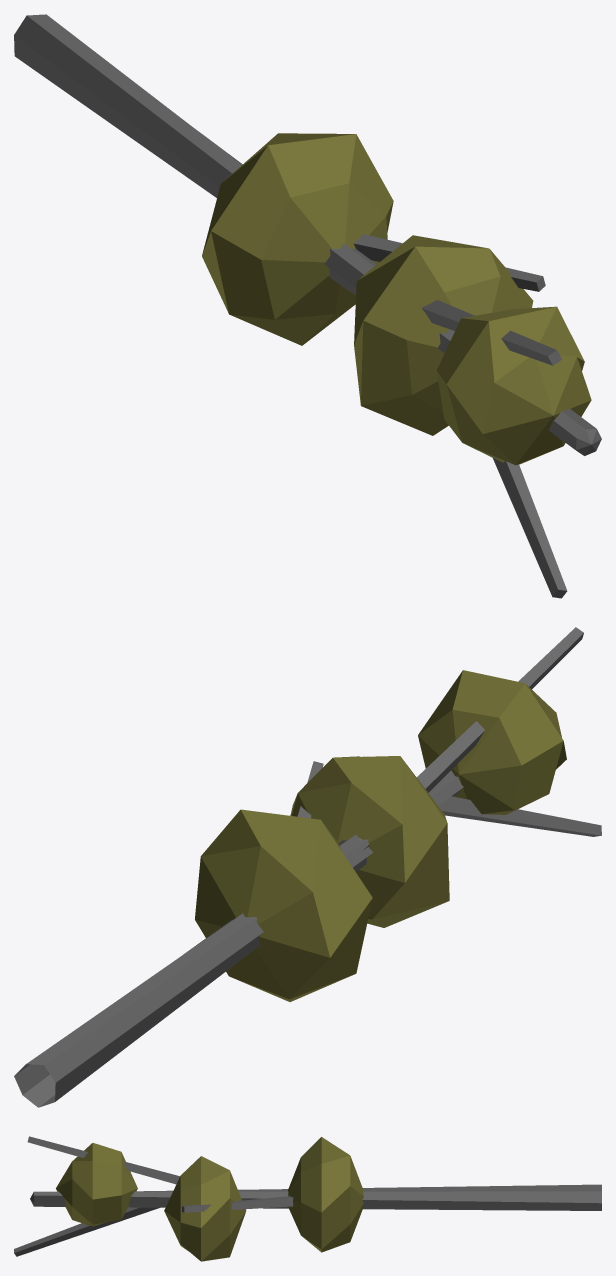
File: dying_1.glb
The picture shows the model from 3 angles, top to bottom: view 1: azimuth 30°, elevation 25°; view 2: azimuth 150°, elevation 25°; view 3: azimuth 270°, elevation 25°; orthographic projection. The views are drawn at different scales.
Parts seen in each view (by area): view 1: tree_05_dying_1; view 2: tree_05_dying_1; view 3: tree_05_dying_1.
Part boxes in pixels (x1,y1,x2,y2): tree_05_dying_1: (14, 14, 601, 598); tree_05_dying_1: (14, 627, 601, 1107); tree_05_dying_1: (14, 1136, 601, 1261).
Bounding box in the file's own units: 9.37 × 10.38 × 45.28.
